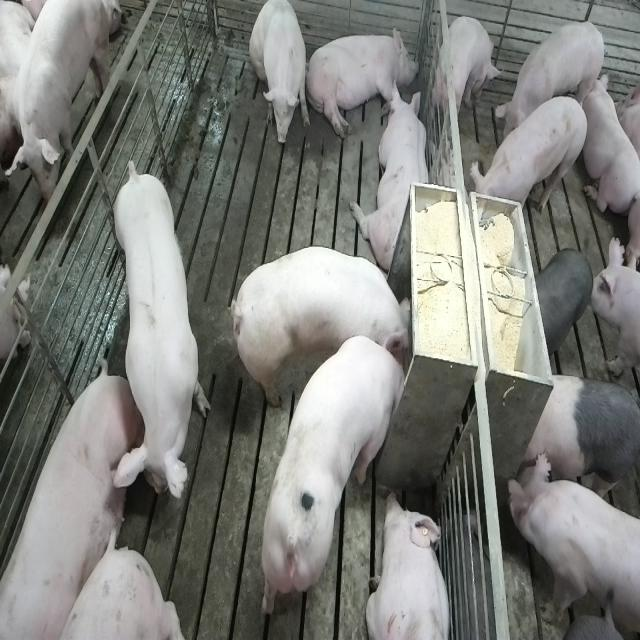Feeding: (260, 331, 410, 617), (239, 246, 419, 407)
Lateral_lying: (304, 22, 418, 140)
Sitting: (249, 0, 309, 147)
Standing: (112, 154, 211, 514), (504, 450, 638, 640), (0, 0, 116, 216), (518, 374, 638, 519), (470, 93, 590, 221), (494, 18, 607, 145), (590, 238, 640, 393), (436, 14, 503, 129), (534, 246, 594, 356)
Sternal_lying: (352, 80, 433, 274), (368, 491, 454, 640), (580, 70, 637, 216)
